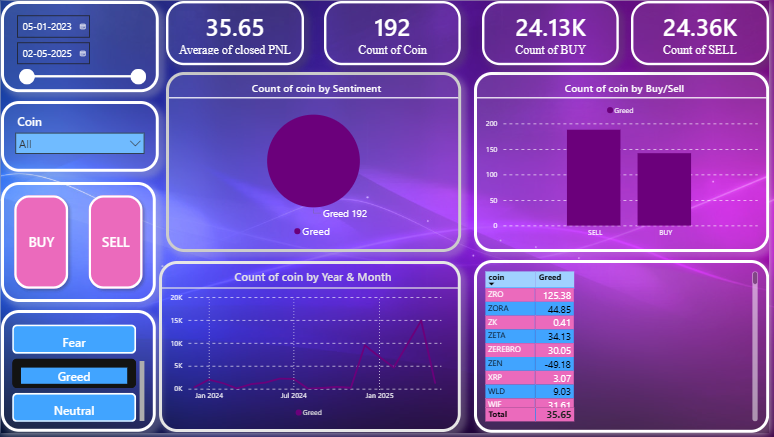

The page's visual inventory and layout, read from the dashboard file:
{"tool":"powerbi","page":{"name":"Page 1","canvas":[1280,720],"ordinal":0},"visuals":[{"type":"pieChart","fields":{"Category":["clean_trader_sentiment (1).classification"],"Y":["Count(clean_trader_sentiment (1).coin)"]},"box":[275,118.3,491.7,300],"z":3},{"type":"lineChart","fields":{"Series":["clean_trader_sentiment (1).classification"],"Y":["CountNonNull(clean_trader_sentiment (1).coin)"],"Category":["clean_trader_sentiment (1).date.Variation.Date Hierarchy.Year","clean_trader_sentiment (1).date.Variation.Date Hierarchy.Month"]},"box":[263.3,433.3,503.3,285],"z":5},{"type":"clusteredColumnChart","fields":{"Category":["clean_trader_sentiment (1).side"],"Series":["clean_trader_sentiment (1).classification"],"Y":["Count(clean_trader_sentiment (1).coin)"]},"box":[788.3,118.3,491.7,300],"z":6},{"type":"pivotTable","fields":{"Rows":["clean_trader_sentiment (1).coin"],"Columns":["clean_trader_sentiment (1).classification"],"Values":["Avg(clean_trader_sentiment (1).closed pnl)"]},"box":[788.3,431.7,491.7,288.3],"z":7},{"type":"slicer","fields":{"Values":["clean_trader_sentiment (1).date"]},"box":[0,0,263.3,151.7],"z":8},{"type":"slicer","fields":{"Values":["clean_trader_sentiment (1).coin"]},"box":[0,166.7,263.3,118.3],"z":9},{"type":"advancedSlicerVisual","fields":{"Values":["clean_trader_sentiment (1).side"]},"box":[0,301.7,258.3,200],"z":10},{"type":"advancedSlicerVisual","fields":{"Values":["clean_trader_sentiment (1).classification"]},"box":[0,515,258.3,203.3],"z":11},{"type":"card","title":"yum","fields":{"Values":["Avg(clean_trader_sentiment (1).closed pnl)"]},"box":[275,0,230,106.7],"z":12},{"type":"card","title":"yum","fields":{"Values":["Count(clean_trader_sentiment (1).coin)"]},"box":[538.3,0,228.3,106.7],"z":13},{"type":"card","title":"yum","fields":{"Values":["CountNonNull(clean_trader_sentiment (1).side)"]},"box":[801.7,0,228.3,106.7],"z":14},{"type":"card","title":"yum","fields":{"Values":["CountNonNull(clean_trader_sentiment (1).side)"]},"box":[1050,0,230,106.7],"z":15}]}

Visuals, with their boxes in screenshot pixels (x1, y1, x2, y2), scaled from the page's 1280x720 canvas onto the 774x437 screenshot:
pieChart - clean_trader_sentiment (1).classification x Count(clean_trader_sentiment (1).coin): region(166, 72, 464, 254)
lineChart - clean_trader_sentiment (1).classification x CountNonNull(clean_trader_sentiment (1).coin): region(159, 263, 464, 436)
clusteredColumnChart - clean_trader_sentiment (1).side x clean_trader_sentiment (1).classification: region(477, 72, 773, 254)
pivotTable - clean_trader_sentiment (1).coin x clean_trader_sentiment (1).classification: region(477, 262, 773, 436)
slicer - clean_trader_sentiment (1).date: region(0, 0, 159, 92)
slicer - clean_trader_sentiment (1).coin: region(0, 101, 159, 173)
advancedSlicerVisual - clean_trader_sentiment (1).side: region(0, 183, 156, 305)
advancedSlicerVisual - clean_trader_sentiment (1).classification: region(0, 313, 156, 436)
"yum" card: region(166, 0, 305, 65)
"yum" card: region(326, 0, 464, 65)
"yum" card: region(485, 0, 623, 65)
"yum" card: region(635, 0, 773, 65)
